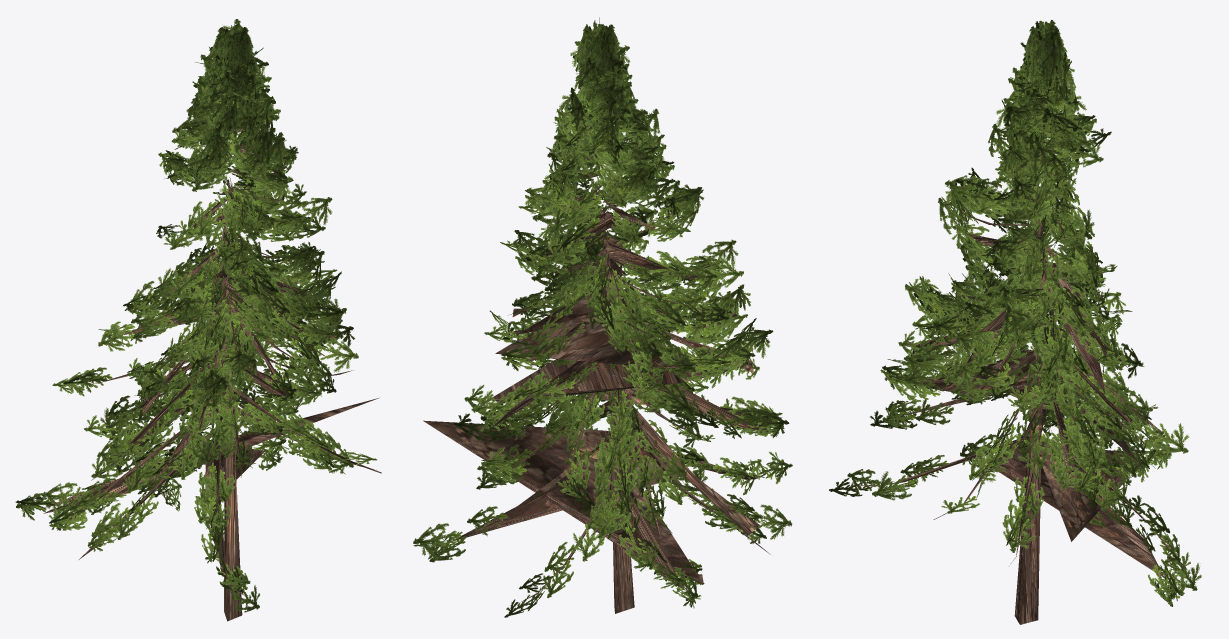
3 renders of one model, left to right at view 1: azimuth 30°, elevation 25°; view 2: azimuth 150°, elevation 25°; view 3: azimuth 270°, elevation 25°, orthographic. The views are drawn at different scales.
Visible parts, largest first — view 1: branches, branches.001; view 2: branches, branches.001; view 3: branches, branches.001.
Boxes of the visible parts, box(x1,y1,x2,y2) form: branches: box(15, 19, 376, 612); branches.001: box(43, 95, 381, 621); branches: box(413, 17, 792, 617); branches.001: box(423, 121, 782, 613); branches: box(829, 20, 1201, 606); branches.001: box(851, 101, 1188, 624).
Size of the model in its own units: 19.07 by 30.59 by 17.55.
2 materials, 2 textured.
